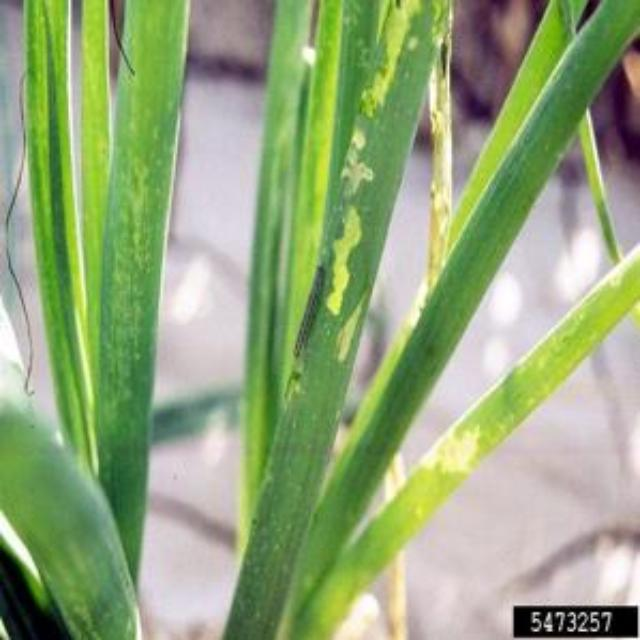Beet armyworm: (272, 248, 362, 384)
